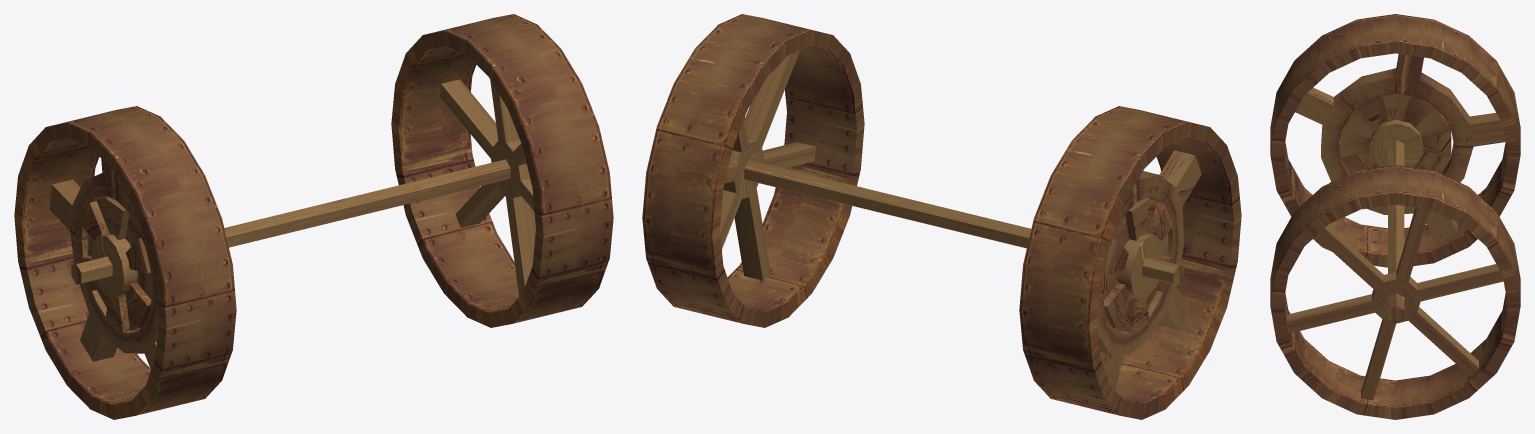
The model's file is SteamMachinesRotor.fbx.
3 renders of one model, left to right at view 1: azimuth 30°, elevation 25°; view 2: azimuth 150°, elevation 25°; view 3: azimuth 270°, elevation 25°, orthographic. The views are drawn at different scales.
Parts seen in each view (by area): view 1: SteamMachinesRotor; view 2: SteamMachinesRotor; view 3: SteamMachinesRotor.
Part boxes in pixels (left/top/right/bottom): SteamMachinesRotor: left=14, top=14, right=613, bottom=419; SteamMachinesRotor: left=642, top=14, right=1241, bottom=419; SteamMachinesRotor: left=1270, top=14, right=1520, bottom=419.
Bounding box in the file's own units: 24.15 × 13.24 × 13.24.
